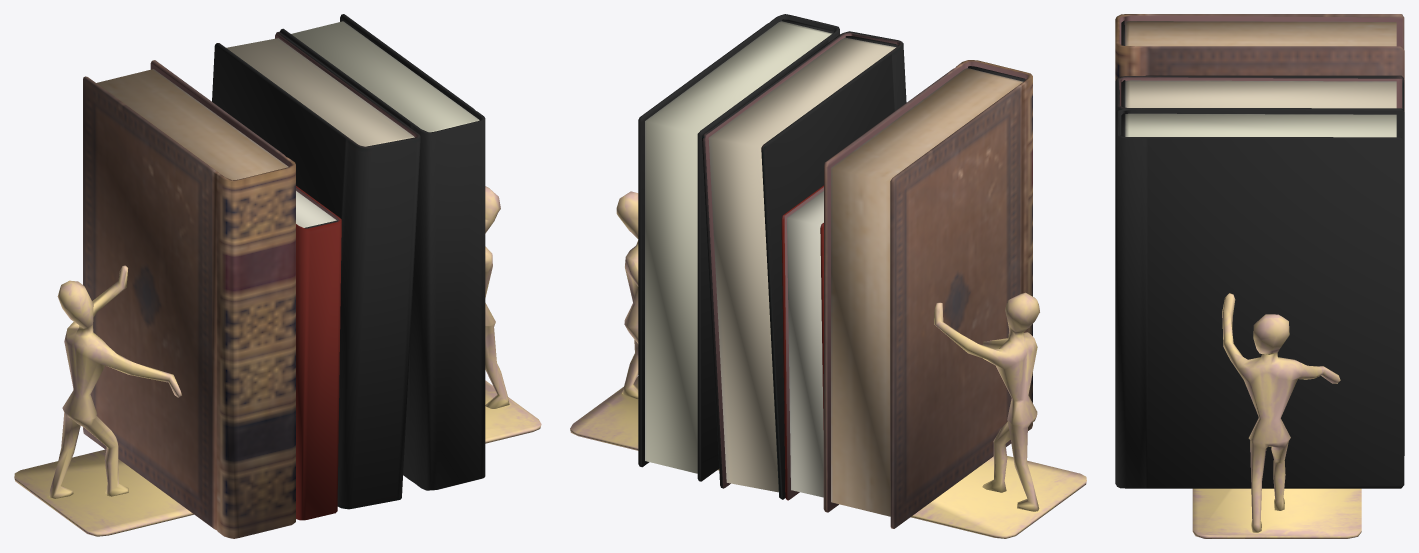
Rendered from book_holder.glb.
3 views of the same model, side by side, from view 1: azimuth 30°, elevation 25°; view 2: azimuth 150°, elevation 25°; view 3: azimuth 270°, elevation 25° (orthographic). The views are drawn at different scales.
Parts seen in each view (by area): view 1: book_holder_01.001; view 2: book_holder_01.001; view 3: book_holder_01.001.
Boxes of the visible parts, x1,y1,x2,y2 form: book_holder_01.001: [14, 14, 541, 538]; book_holder_01.001: [570, 14, 1086, 538]; book_holder_01.001: [1115, 14, 1404, 538].
Size of the model in its own units: 29.02 by 22.2 by 16.33.
Materials: 2 (2 with a texture image).
